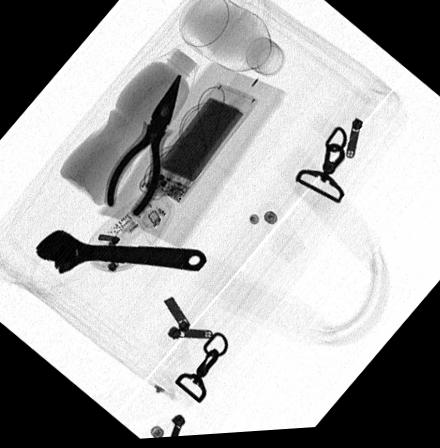Pliers: (104, 76, 180, 219)
Powerbank: (142, 87, 259, 208)
Wrench: (35, 229, 206, 275)
